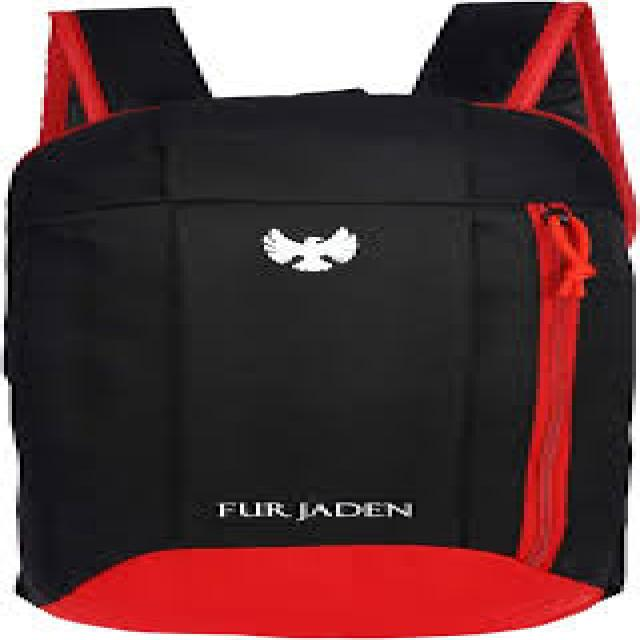backpack: (1, 1, 637, 637)
